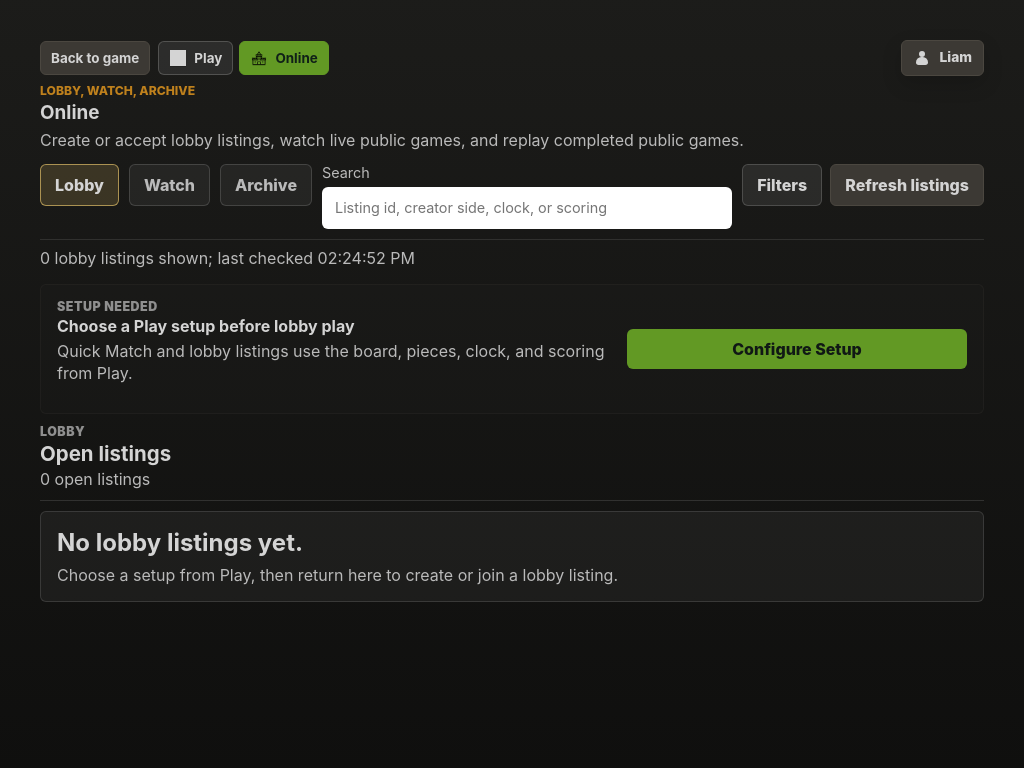
it: OnlineGameBrowser › labels the Online navigation identity chip with the signed-in display name
The image size is (1024, 768).
Click the button named "Liam account. Open account controls".
click(943, 58)  # box [902,40,984,76]
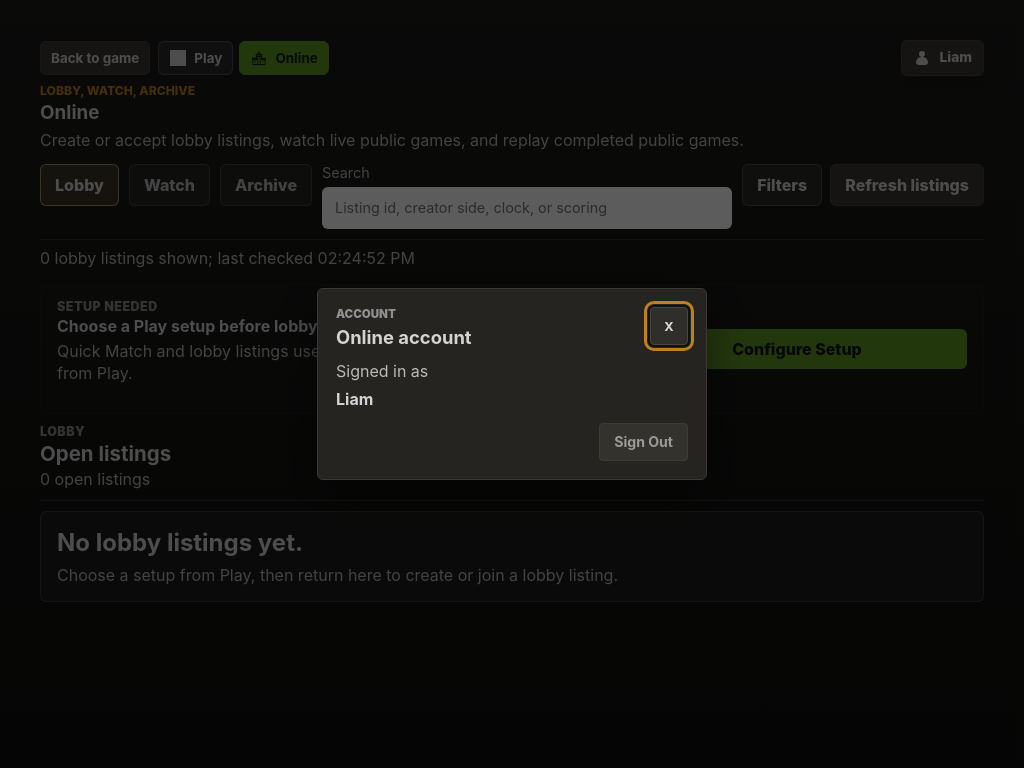
Result: the dialog "Online account" shows "Signed in as" at [336,361,428,381]
